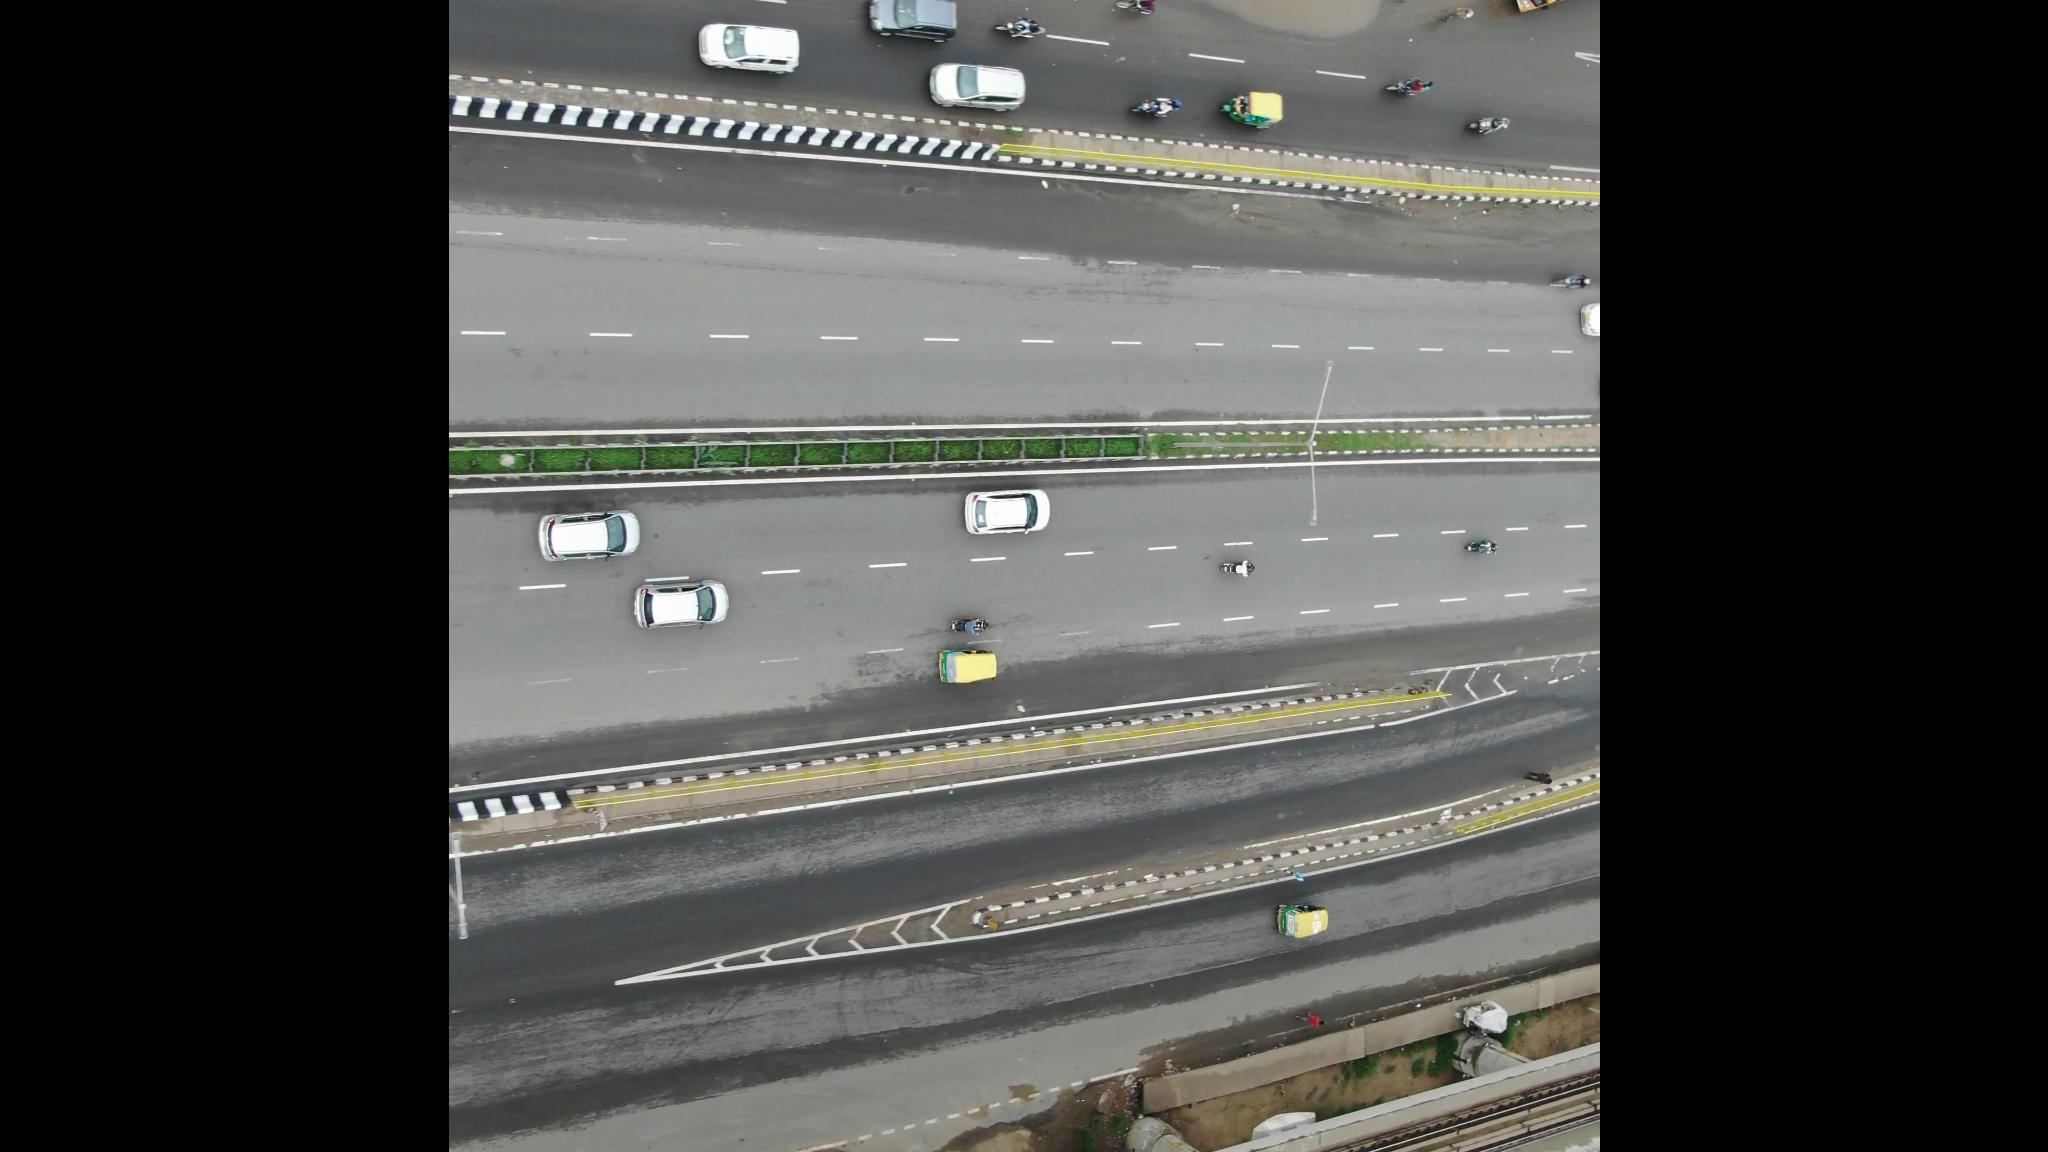Muddy_road: (1210, 193, 1522, 255)
Waterlogging: (1272, 1, 1408, 60)
